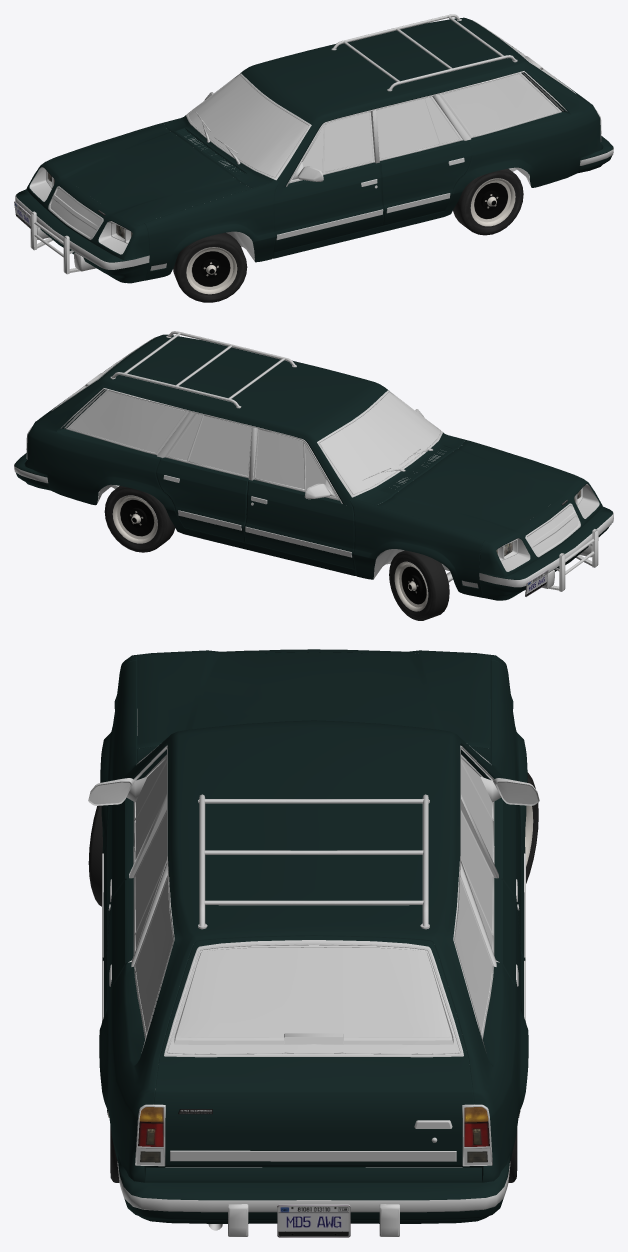
The model's file is PioneerSW80.fbx.
3 renders of one model, top to bottom at view 1: azimuth 30°, elevation 25°; view 2: azimuth 150°, elevation 25°; view 3: azimuth 270°, elevation 25°, orthographic. The views are drawn at different scales.
Parts seen in each view (by area): view 1: body, hood, Door_FL, Windshield, bottom, Door_RL, glass_body, Wheel_FL, Wheel_RL, Door_Glass_RL, Door_Glass_FL, Grill (+6 smaller); view 2: body, hood, Door_FR, Windshield, bottom, Door_RR, glass_body, Wheel_RR, Wheel_FR, Door_Glass_RR, Door_Glass_FR, Grill (+6 smaller); view 3: body, Trunkdoor, hood, Trunkdoor_glass, Trunkdoor_inner, Bumper_rear, bottom, glass_body, Bumper_rear_inner, Door_FL, Door_FR, Numberplate_rear (+12 smaller).
Boxes of the visible parts, left/top/right/bottom form: body: left=26, top=17, right=603, bottom=280; hood: left=50, top=123, right=251, bottom=225; Door_FL: left=273, top=162, right=384, bottom=252; Windshield: left=188, top=75, right=308, bottom=176; bottom: left=125, top=14, right=567, bottom=283; Door_RL: left=380, top=140, right=472, bottom=225; glass_body: left=443, top=74, right=558, bottom=135; Wheel_FL: left=173, top=232, right=247, bottom=302; Wheel_RL: left=453, top=168, right=523, bottom=235; Door_Glass_RL: left=376, top=97, right=459, bottom=158; Door_Glass_FL: left=302, top=112, right=372, bottom=172; Grill: left=29, top=167, right=130, bottom=254; body: left=24, top=334, right=602, bottom=597; hood: left=377, top=441, right=578, bottom=542; Door_FR: left=244, top=479, right=355, bottom=569; Windshield: left=319, top=392, right=440, bottom=494; bottom: left=60, top=331, right=503, bottom=600; Door_RR: left=156, top=457, right=248, bottom=542; glass_body: left=70, top=391, right=185, bottom=452; Wheel_RR: left=104, top=486, right=175, bottom=552; Wheel_FR: left=389, top=550, right=449, bottom=620; Door_Glass_RR: left=169, top=414, right=251, bottom=475; Door_Glass_FR: left=255, top=429, right=326, bottom=489; Grill: left=498, top=484, right=599, bottom=571; body: left=99, top=649, right=528, bottom=1182; Trunkdoor: left=154, top=935, right=473, bottom=1167; hood: left=137, top=652, right=490, bottom=748; Trunkdoor_glass: left=176, top=947, right=451, bottom=1037; Trunkdoor_inner: left=155, top=940, right=463, bottom=1167; Bumper_rear: left=118, top=1155, right=509, bottom=1223; bottom: left=128, top=709, right=499, bottom=1167; glass_body: left=135, top=878, right=492, bottom=1033; Bumper_rear_inner: left=117, top=1161, right=510, bottom=1236; Door_FL: left=102, top=797, right=133, bottom=959; Door_FR: left=494, top=797, right=525, bottom=959; Numberplate_rear: left=277, top=1204, right=350, bottom=1237.
Size of the model in its own units: 197 by 73.05 by 55.26.
